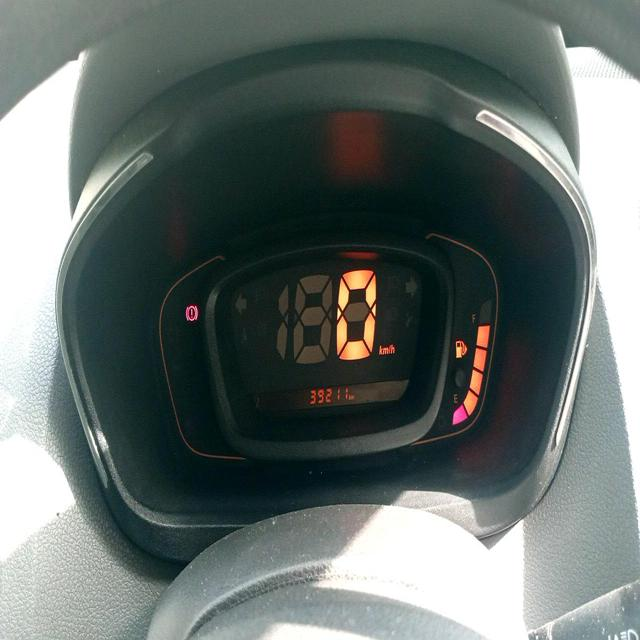odometer: (307, 384, 349, 406)
